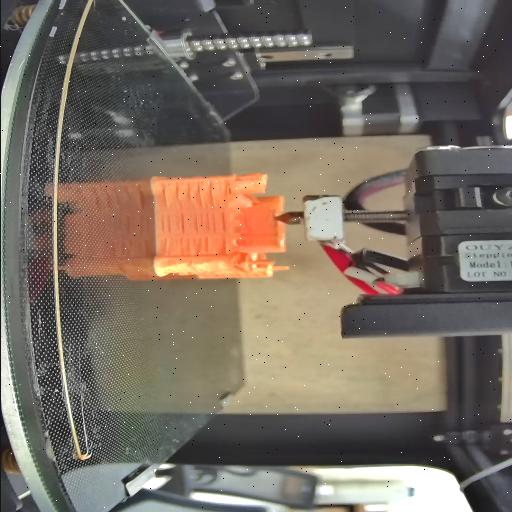cracks: (158, 180, 214, 208), (161, 236, 209, 256), (194, 208, 226, 234), (159, 213, 185, 234), (218, 236, 230, 254)
